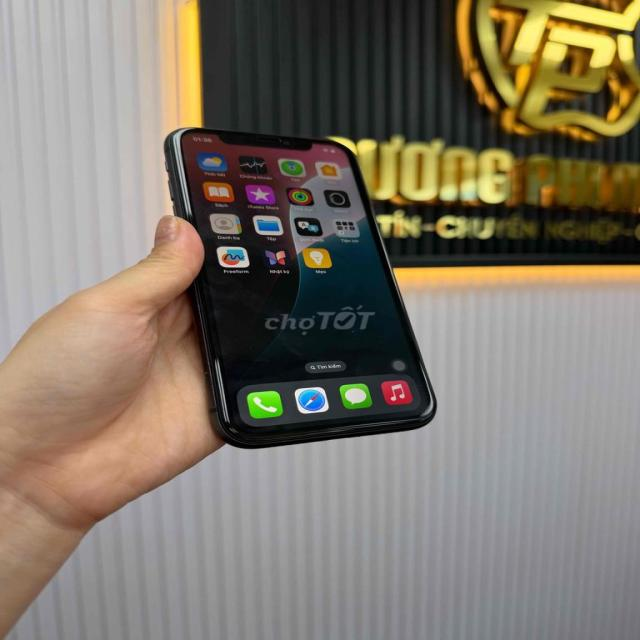gen_11: (163, 117, 447, 456)
